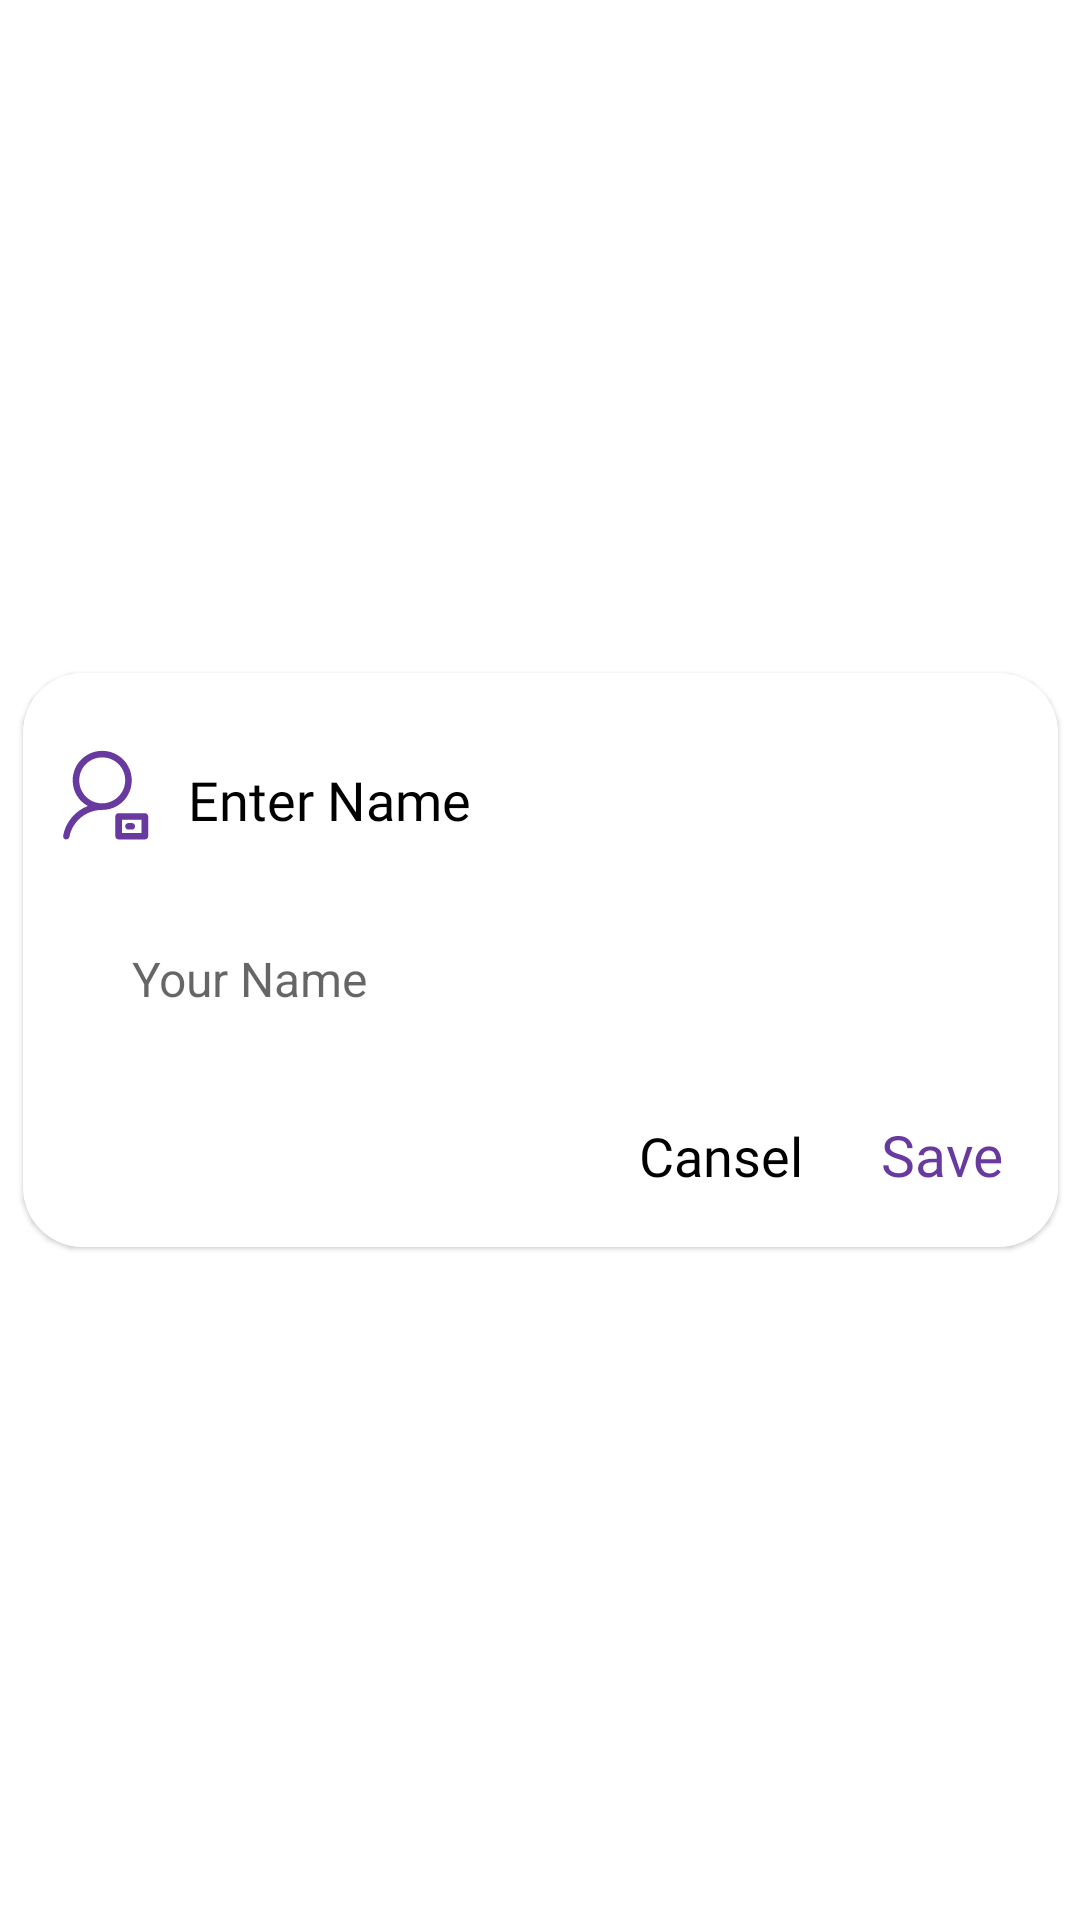

Locate icon controls on the screen. Image size 1080 x 1920, boxes as {"left": x1, "top": y1, "right": x2, "bottom": y2}.
profile: {"left": 63, "top": 750, "right": 149, "bottom": 840}
